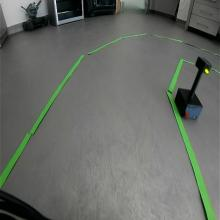green: (195, 56, 212, 75)
